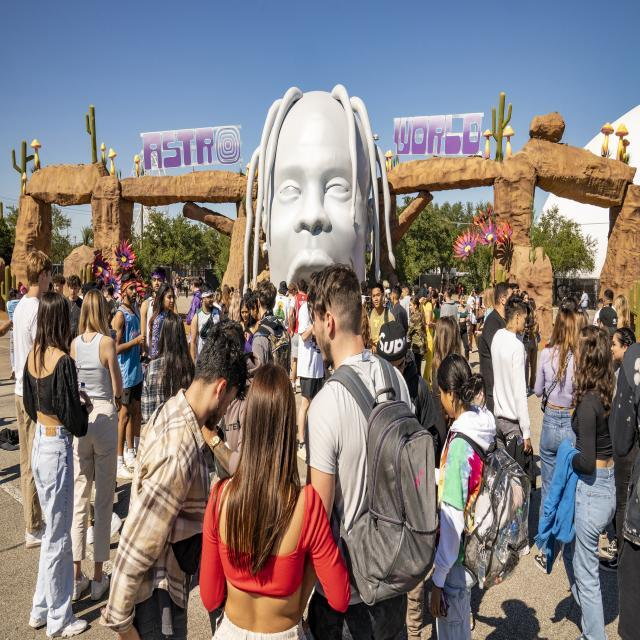Backpacks: (351, 385, 439, 611), (459, 433, 529, 592)
